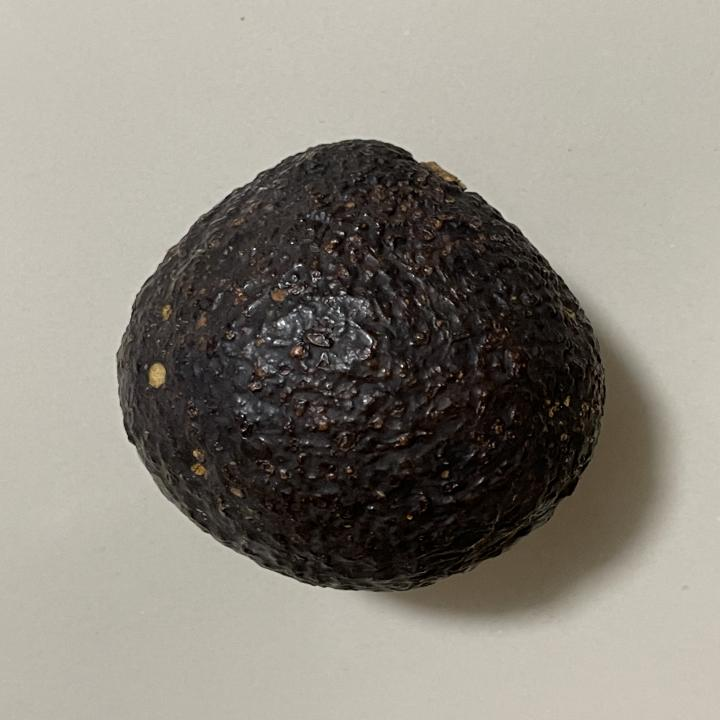Level3: (100, 126, 620, 598)
